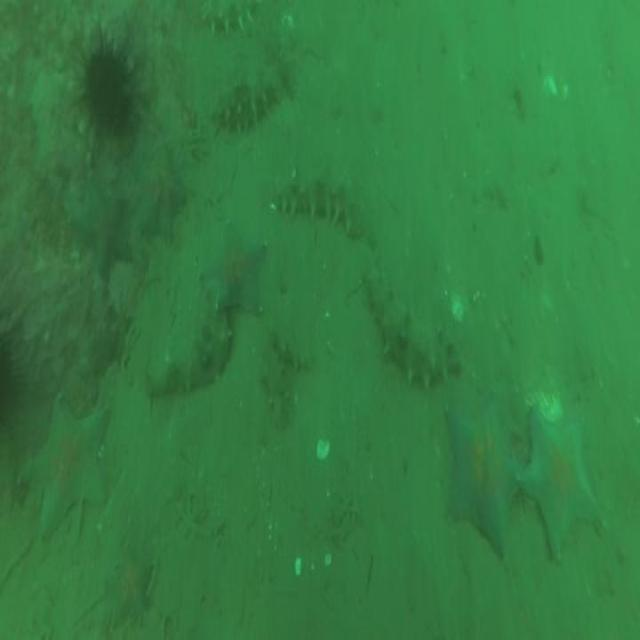echinus: (82, 52, 130, 142)
holothurian: (365, 264, 456, 387), (145, 321, 233, 395), (274, 170, 360, 236), (209, 63, 281, 138), (260, 322, 310, 422), (203, 4, 257, 36)
starfish: (516, 397, 600, 556), (18, 393, 108, 539), (445, 400, 519, 561), (201, 220, 267, 314), (66, 183, 132, 272), (134, 160, 187, 248), (104, 545, 153, 623)
